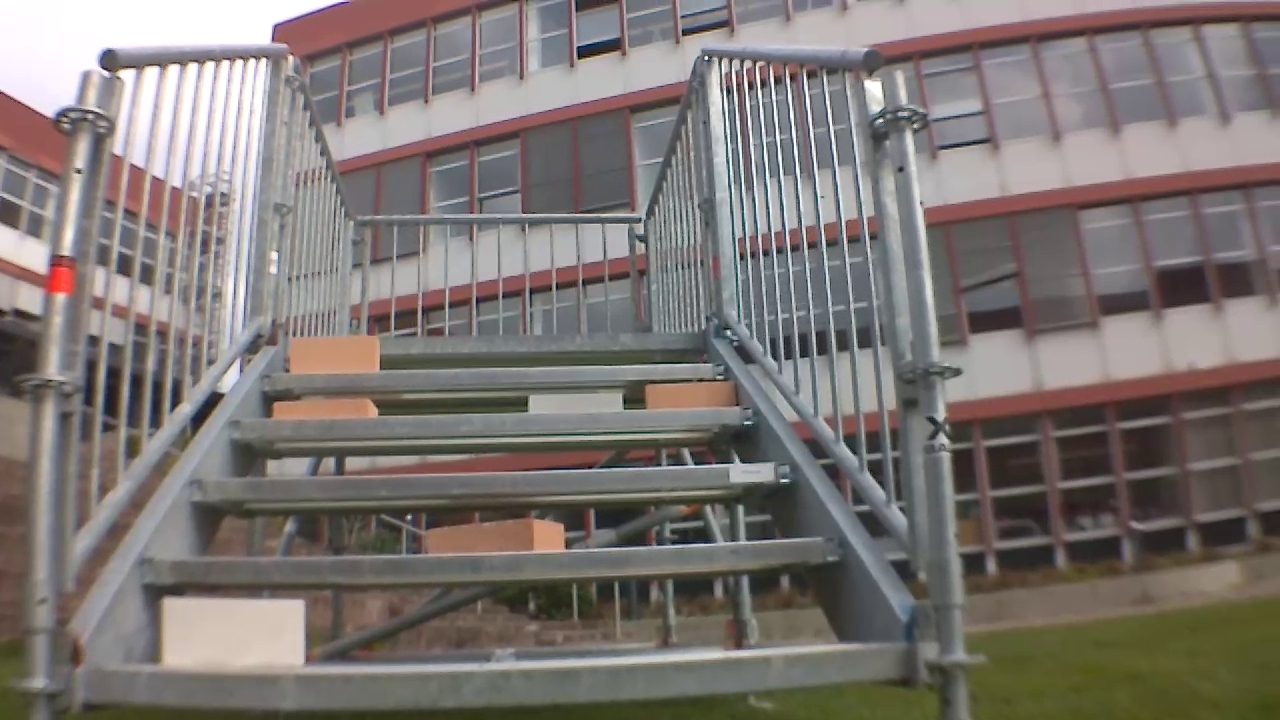brick: (162, 598, 304, 667), (426, 519, 562, 553), (290, 336, 379, 372), (645, 382, 732, 408), (273, 399, 378, 419), (528, 392, 622, 414)
edge: (86, 646, 905, 706), (137, 535, 842, 584), (183, 461, 797, 500), (229, 406, 762, 435), (261, 363, 728, 386), (286, 335, 703, 349)
stairs: (34, 43, 976, 716)
steps: (81, 331, 915, 714)
